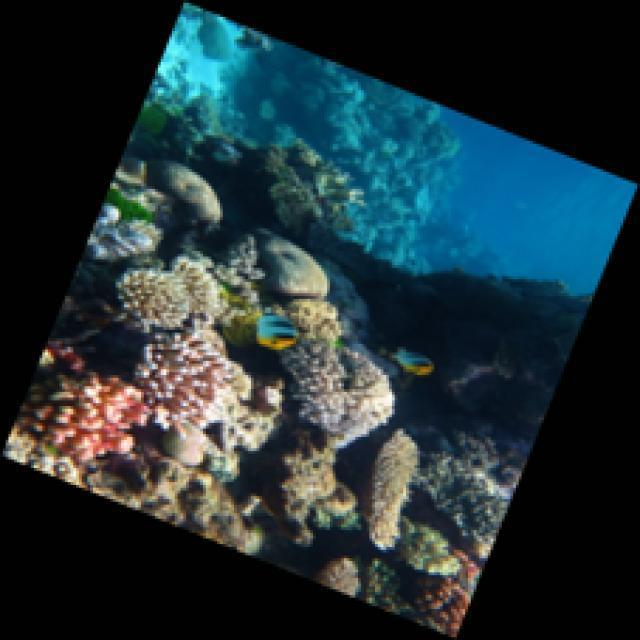Bleached: (286, 342, 401, 452), (117, 262, 225, 331)
Healthy: (22, 344, 153, 470), (137, 332, 233, 436), (411, 547, 480, 634)
